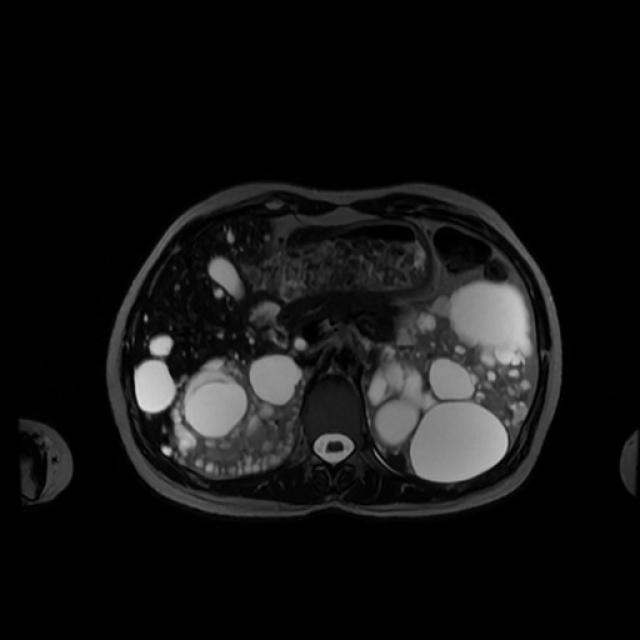sag: (171, 353, 304, 476)
sol: (365, 282, 533, 480)
